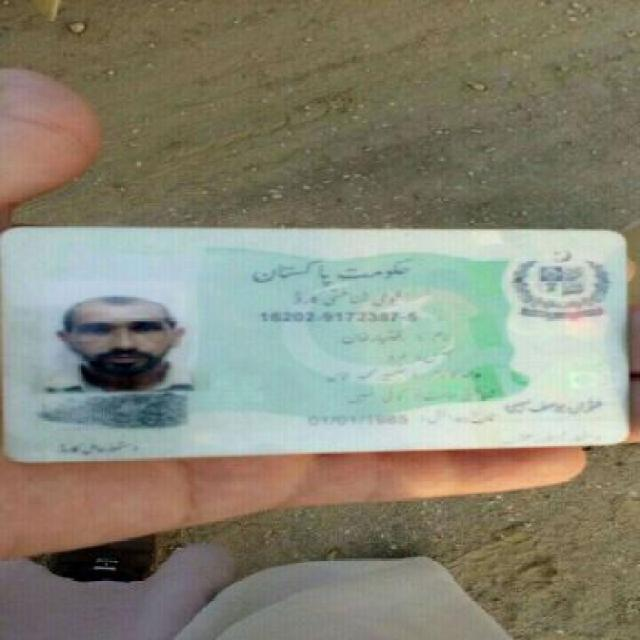Front: (3, 216, 625, 458)
